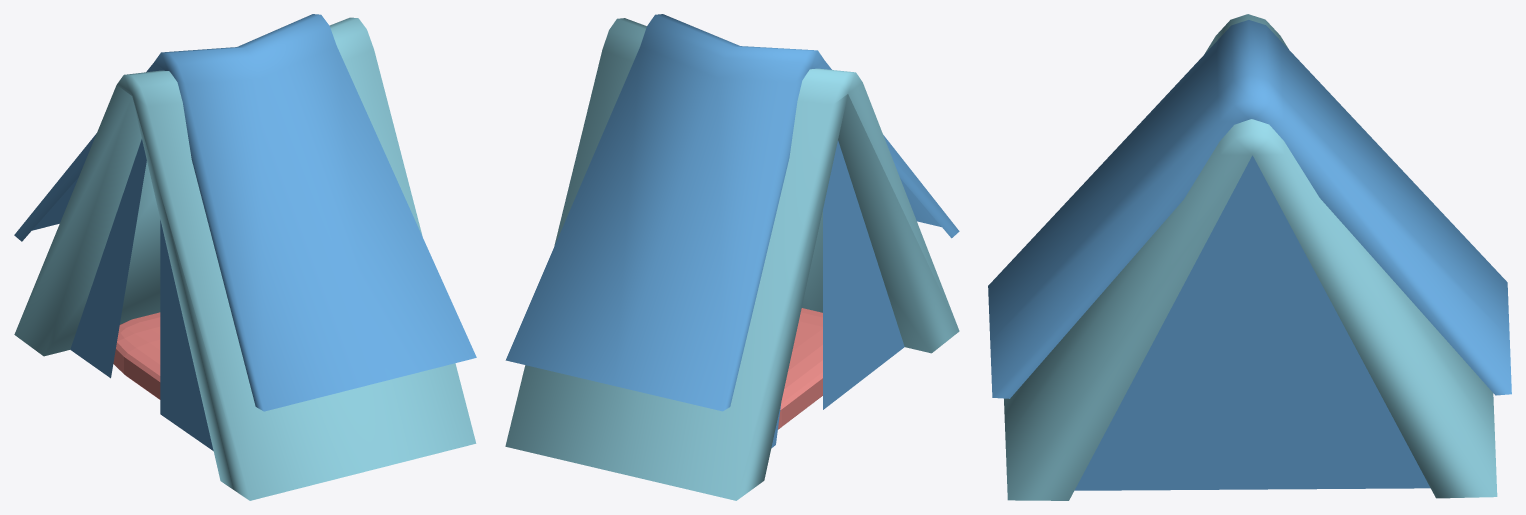
Rendered from tentblue.glb.
3 renders of one model, left to right at view 1: azimuth 30°, elevation 25°; view 2: azimuth 150°, elevation 25°; view 3: azimuth 270°, elevation 25°, orthographic. The views are drawn at different scales.
Parts seen in each view (by area): view 1: tent2; view 2: tent2; view 3: tent2.
Part boxes in pixels (x1,y1,x2,y2): tent2: (14, 14, 476, 500); tent2: (505, 14, 959, 500); tent2: (988, 14, 1511, 500).
Size of the model in its own units: 2.06 by 2.99 by 3.72.
